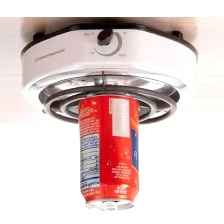can: (74, 89, 144, 215)
